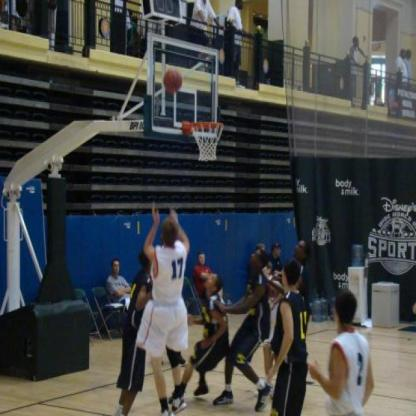basketball: (163, 67, 183, 93)
rim: (189, 121, 224, 131)
